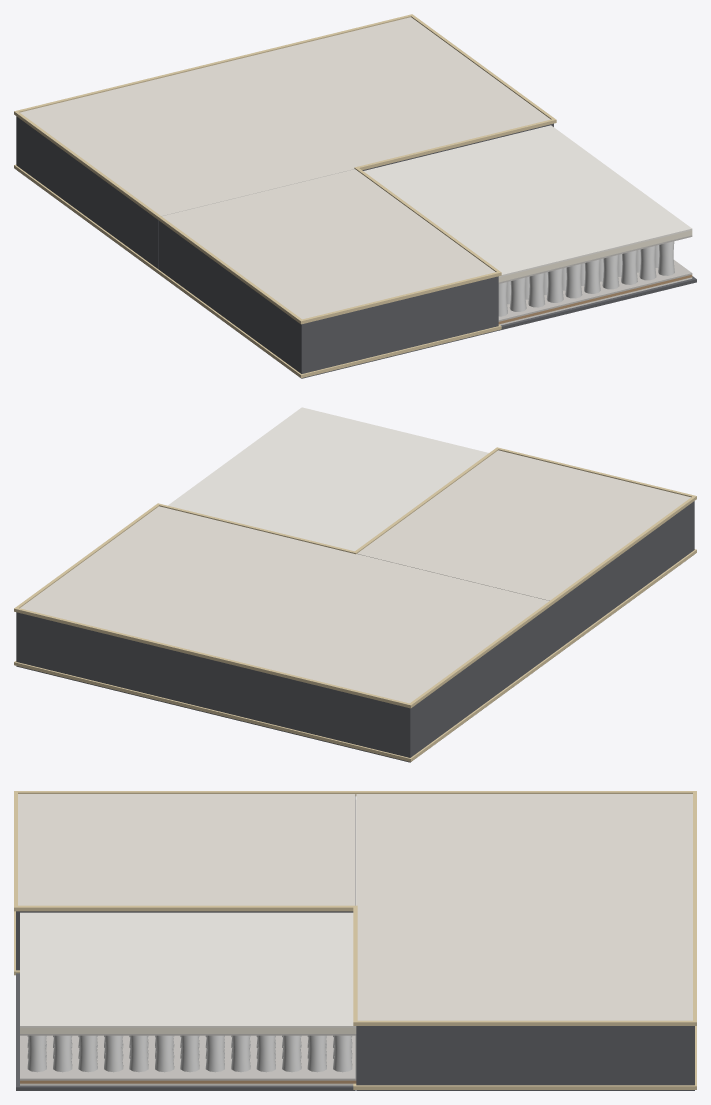
File: eluna-air.glb
3 views of the same model, one above another, from view 1: azimuth 30°, elevation 25°; view 2: azimuth 150°, elevation 25°; view 3: azimuth 270°, elevation 25° (orthographic). The views are drawn at different scales.
Parts seen in each view (by area): view 1: Eluna Air; view 2: Eluna Air; view 3: Eluna Air.
Boxes of the visible parts, x1,y1,x2,y2 form: Eluna Air: (14,14,696,378); Eluna Air: (14,407,696,762); Eluna Air: (14,791,696,1090).
Bounding box in the file's own units: 1.61 × 0.226 × 2.01.
